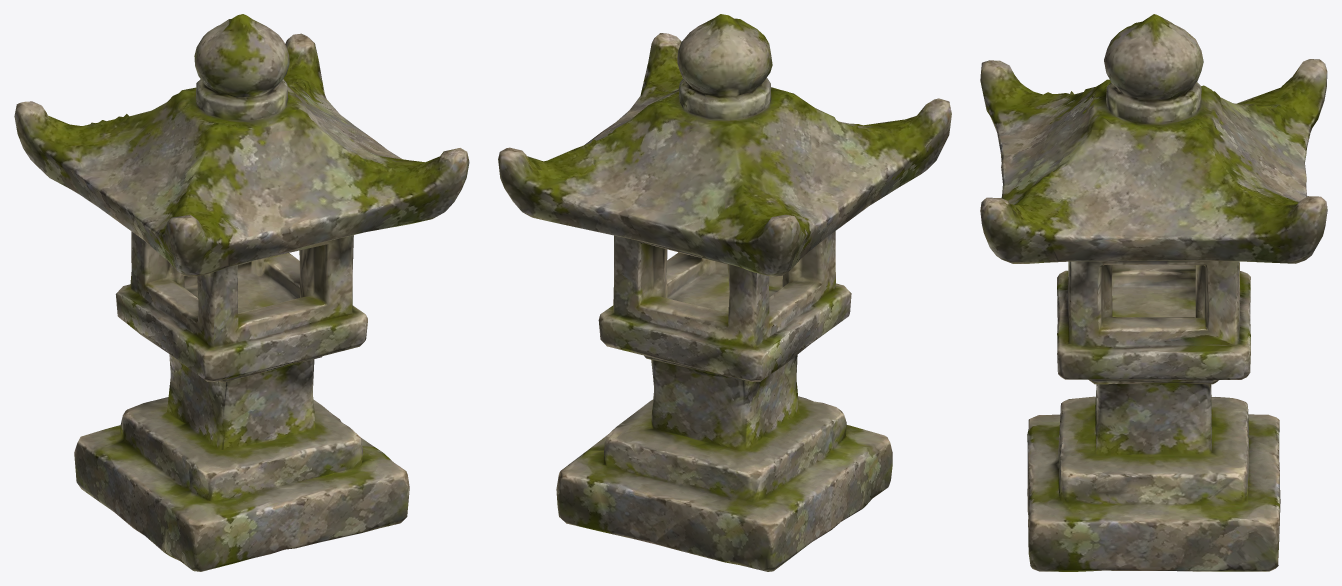
File: stone_lantern.glb
3 renders of one model, left to right at view 1: azimuth 30°, elevation 25°; view 2: azimuth 150°, elevation 25°; view 3: azimuth 270°, elevation 25°, orthographic. The views are drawn at different scales.
Parts seen in each view (by area): view 1: stone_lantern; view 2: stone_lantern; view 3: stone_lantern.
Part boxes in pixels (x1=…): stone_lantern: x1=14, y1=14, x2=469, y2=571; stone_lantern: x1=498, y1=14, x2=951, y2=571; stone_lantern: x1=980, y1=14, x2=1327, y2=571.
Size of the model in its own units: 0.6161 by 0.9794 by 0.6114.
1 material, 1 textured.
